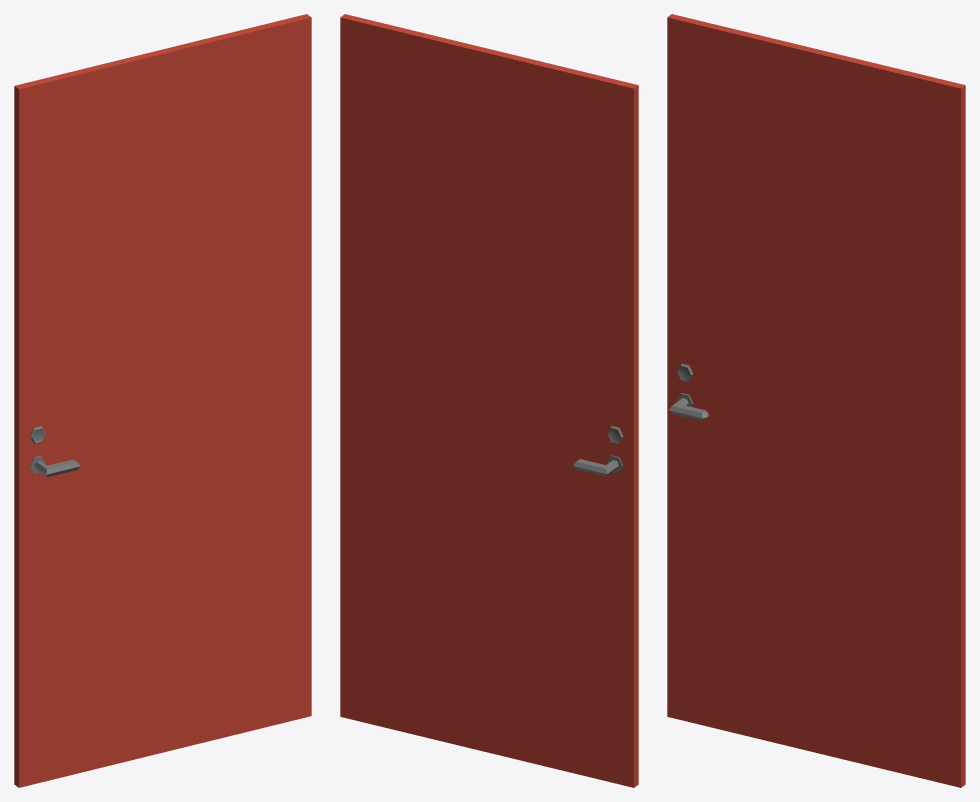
File: SW_corridor__R_lobby_R_Aula_Ovi_010.FBX
3 views of the same model, side by side, from view 1: azimuth 30°, elevation 25°; view 2: azimuth 150°, elevation 25°; view 3: azimuth 330°, elevation 25° (orthographic).
Visible parts, largest first — view 1: SW_corridor__R_lobby_R_Aula_Ovi_010; view 2: SW_corridor__R_lobby_R_Aula_Ovi_010; view 3: SW_corridor__R_lobby_R_Aula_Ovi_010.
Part boxes in pixels (<box>): SW_corridor__R_lobby_R_Aula_Ovi_010: <box>14,14,311,787</box>; SW_corridor__R_lobby_R_Aula_Ovi_010: <box>340,14,638,787</box>; SW_corridor__R_lobby_R_Aula_Ovi_010: <box>667,14,965,787</box>.
Size of the model in its own units: 90 by 15.99 by 205.
